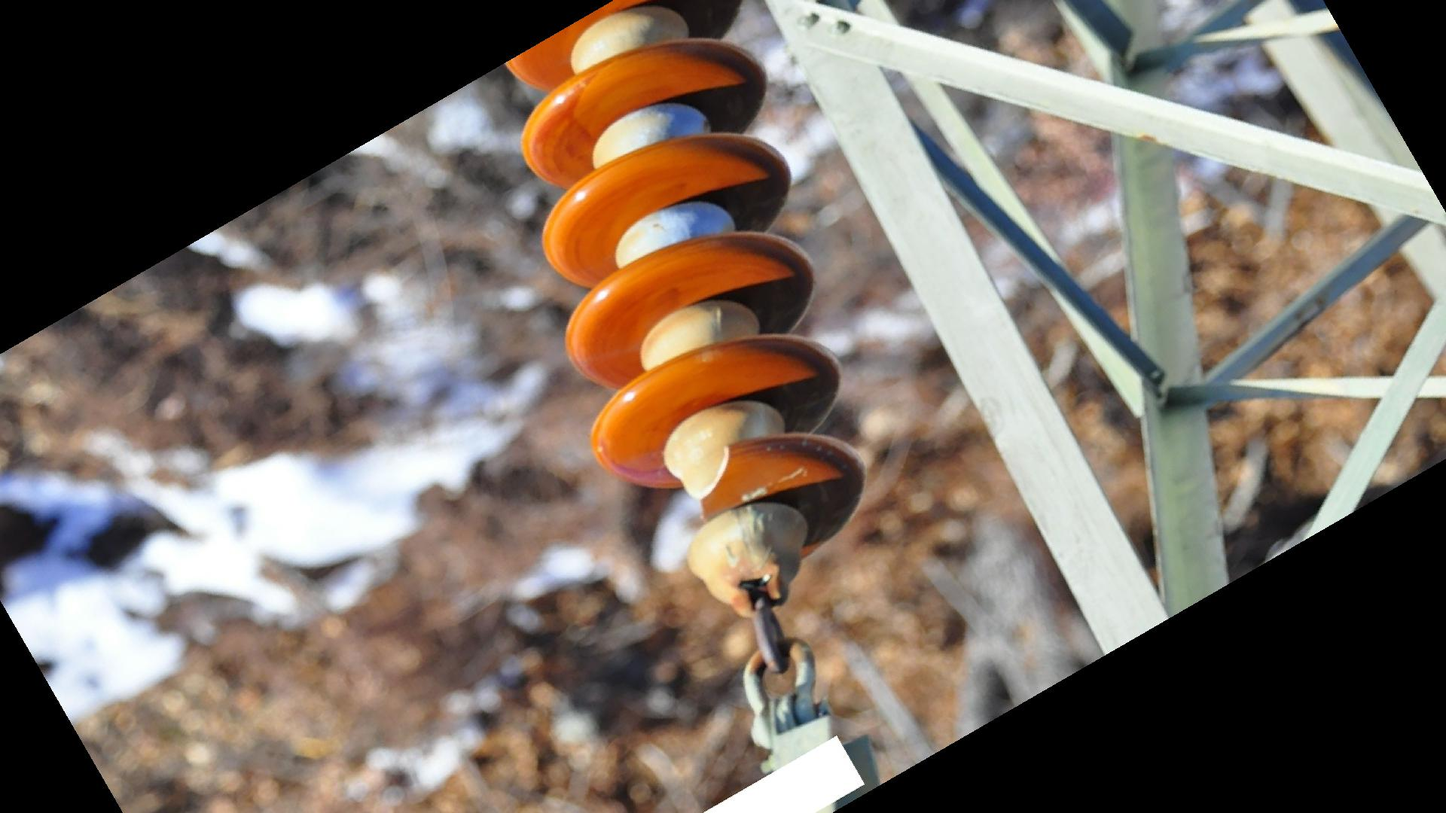insulator: (499, 1, 873, 564)
insulator_breakage: (688, 439, 741, 527)
